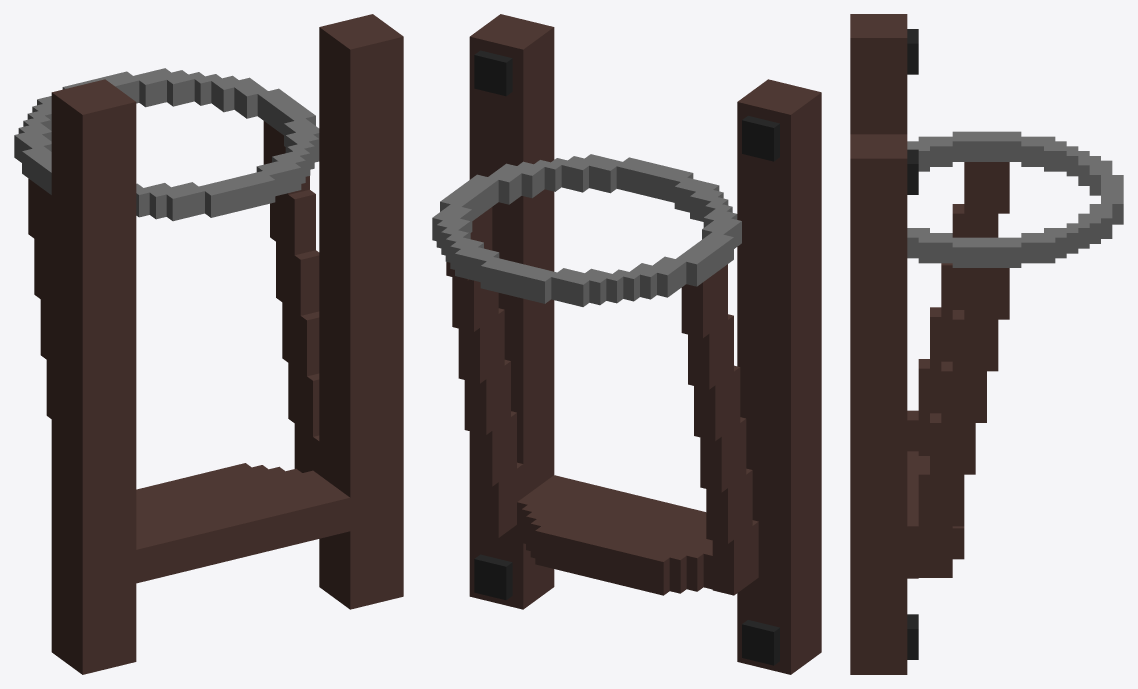
The model's file is Mine-2-Torch Holder.obj.
3 views of the same model, side by side, from view 1: azimuth 30°, elevation 25°; view 2: azimuth 150°, elevation 25°; view 3: azimuth 270°, elevation 25° (orthographic). The views are drawn at different scales.
Parts seen in each view (by area): view 1: Torch Holder; view 2: Torch Holder; view 3: Torch Holder.
Part boxes in pixels (x1,y1,x2,y2): Torch Holder: [14, 14, 403, 674]; Torch Holder: [432, 14, 821, 674]; Torch Holder: [850, 14, 1123, 674].
Size of the model in its own units: 3 by 5 by 2.4.
1 material, 1 textured.
